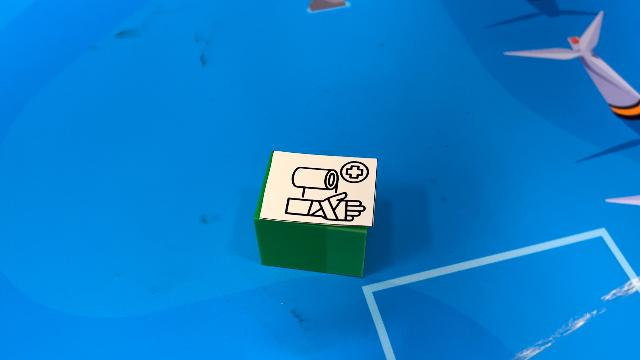bandage: (252, 147, 380, 277)
